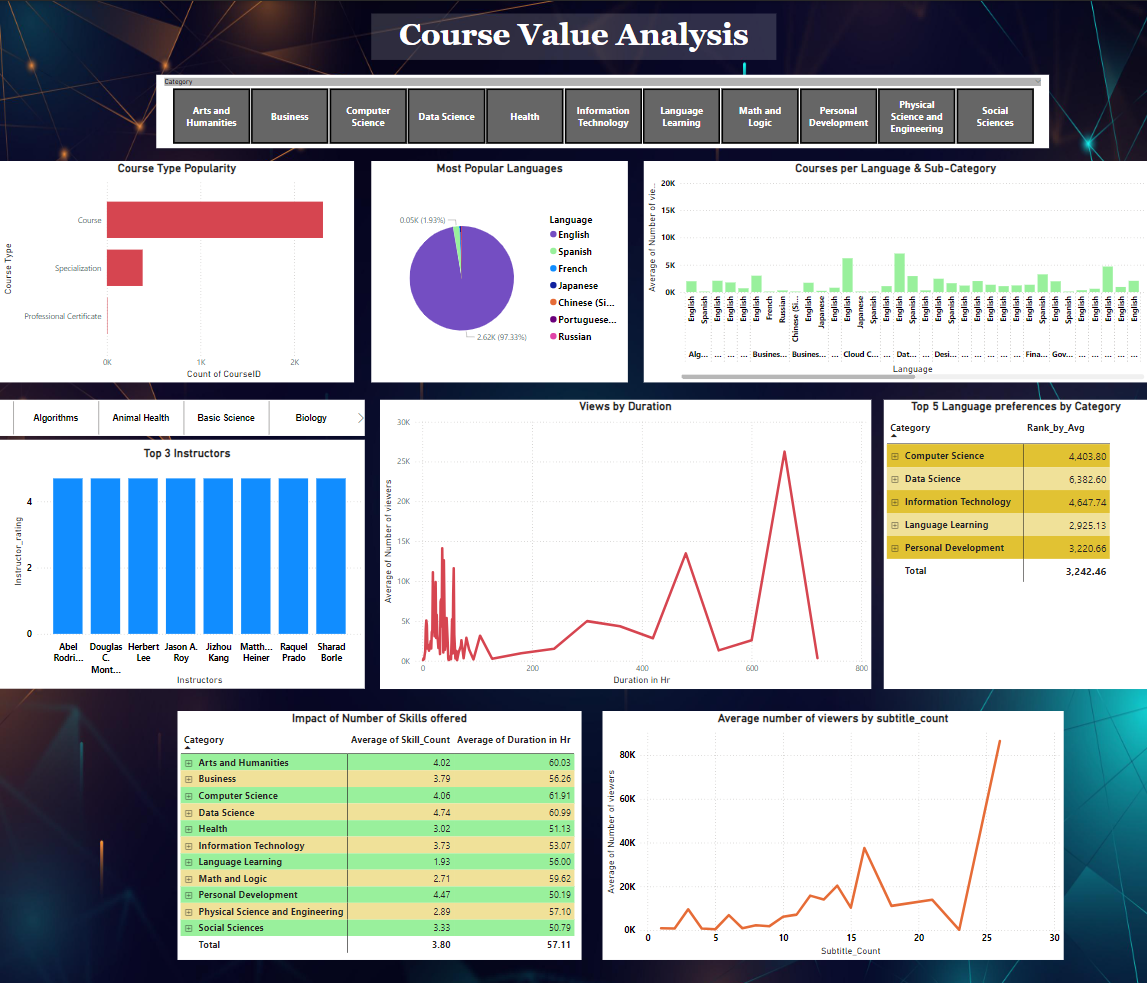

The dashboard page shown, as its layout file describes it:
{"tool":"powerbi","page":{"name":"Page 1","canvas":[1800,1550],"ordinal":0},"visuals":[{"type":"textbox","box":[582.5,20,635,72.5],"z":0},{"type":"slicer","fields":{"Values":["Online_Courses.Category"]},"box":[245,115,1400,115],"z":1000},{"type":"barChart","title":"Course Type Popularity","fields":{"Category":["Online_Courses.Course Type"],"Y":["Online_Courses.CourseID"]},"box":[0,250,555,347.5],"z":2000},{"type":"columnChart","title":"Courses per Language & Sub-Category","fields":{"Category":["Online_Courses.Sub-Category","Online_Courses.Language"],"Y":["Online_Courses.Number of viewers"]},"box":[1010,250,790,347.5],"z":3000},{"type":"pieChart","title":"Most Popular Languages","fields":{"Category":["Online_Courses.Language"],"Y":["Online_Courses.CourseID"]},"box":[582.5,250,402.5,347.5],"z":4000},{"type":"pivotTable","title":"Top 5 Language preferences by Category","fields":{"Rows":["Online_Courses.Category","Online_Courses.Language"],"Values":["Online_Courses.Rank_category_by_Avg_views"]},"box":[1385,625,415,453.3],"z":5000},{"type":"lineChart","title":"Average number of viewers by subtitle_count","fields":{"Category":["Online_Courses.Subtitle_Count"],"Y":["Online_Courses.Number of viewers"]},"box":[945,1113.3,723.3,390],"z":6000},{"type":"columnChart","title":"Top 3 Instructors","fields":{"Category":["Instructors.Instructors"],"Y":["Instructors.Instructor_rating"]},"box":[0,688.3,571.7,390],"z":7000},{"type":"slicer","fields":{"Values":["Instructors.Sub-Category"]},"box":[0,625.6,572.2,56.7],"z":8000},{"type":"lineChart","title":"Views by Duration","fields":{"Category":["Online_Courses.Duration in Hr"],"Y":["Online_Courses.Number of viewers"]},"box":[595,625,770,453.3],"z":9000},{"type":"pivotTable","title":"Impact of Number of Skills offered","fields":{"Rows":["Online_Courses.Category","Online_Courses.Sub-Category"],"Values":["Online_Courses.Skill_Count","Online_Courses.Duration in Hr"]},"box":[278.3,1113.3,633.3,390],"z":10000}]}

Visuals, with their boxes in screenshot pixels (x1, y1, x2, y2), scaled from the page's 1800x1550 canvas onto the 1147x983 screenshot:
textbox: 371,13,776,59
slicer - Online_Courses.Category: 156,73,1048,146
"Course Type Popularity" barChart: 0,159,354,379
"Courses per Language & Sub-Category" columnChart: 644,159,1146,379
"Most Popular Languages" pieChart: 371,159,628,379
"Top 5 Language preferences by Category" pivotTable: 883,396,1146,684
"Average number of viewers by subtitle_count" lineChart: 602,706,1063,953
"Top 3 Instructors" columnChart: 0,437,364,684
slicer - Instructors.Sub-Category: 0,397,365,433
"Views by Duration" lineChart: 379,396,870,684
"Impact of Number of Skills offered" pivotTable: 177,706,581,953
